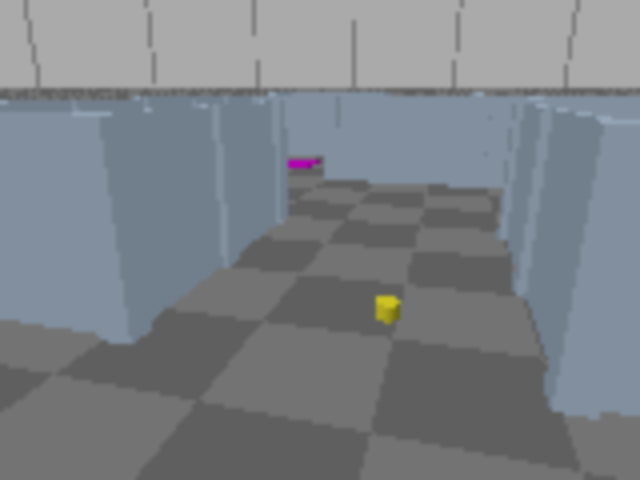puck: (376, 296, 398, 322)
